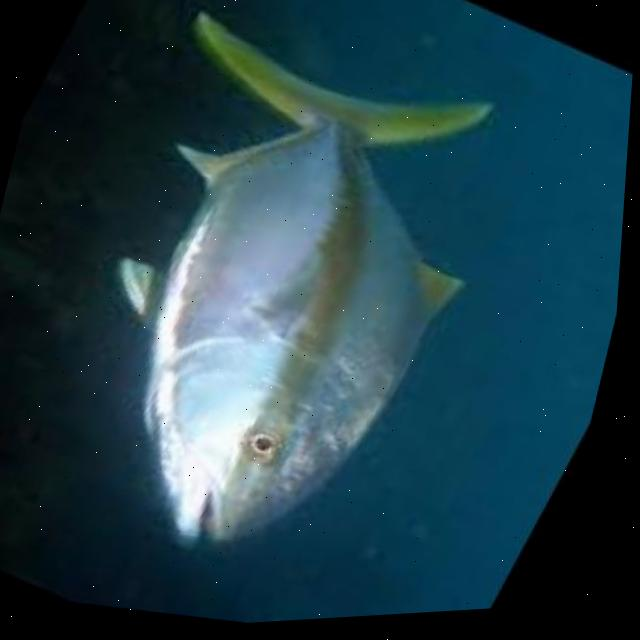Kingfish: (55, 0, 536, 595)
